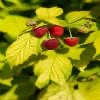Raspberry leaf: (5, 26, 48, 70), (33, 54, 74, 89), (35, 6, 65, 19), (42, 17, 62, 26)
